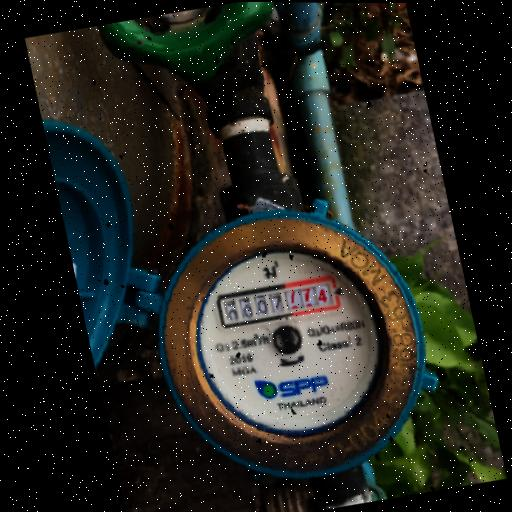0: (253, 295, 268, 317), (224, 300, 238, 321), (240, 298, 254, 319)
4: (314, 285, 330, 306)
7: (285, 289, 300, 311), (300, 287, 315, 308), (269, 292, 283, 314)
border_water_meter_number: (214, 274, 343, 330)
